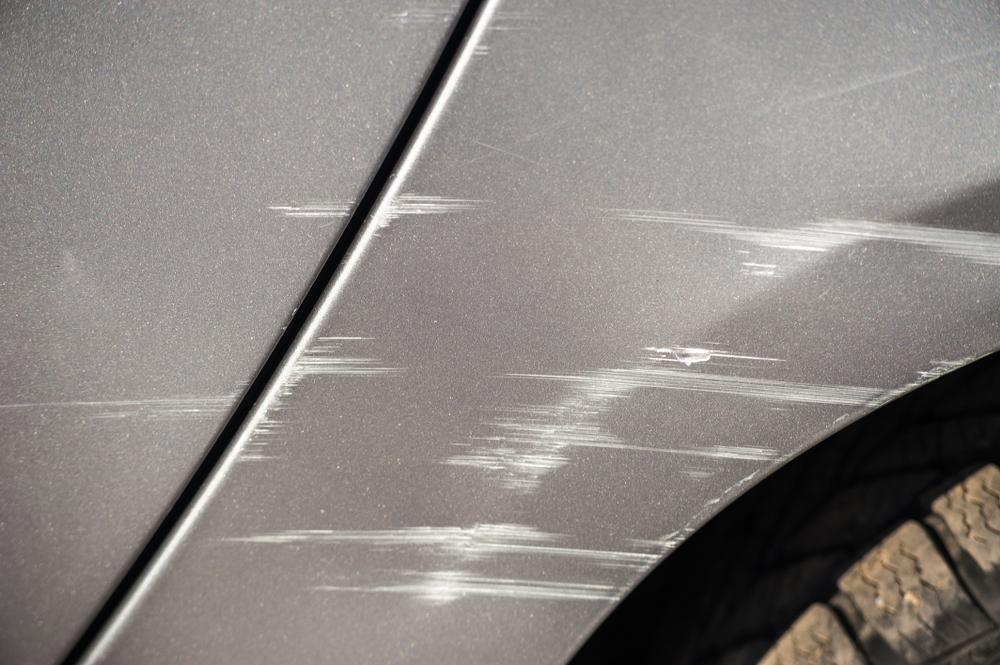scratch: (238, 189, 1000, 616), (0, 373, 249, 427), (260, 190, 360, 220)
